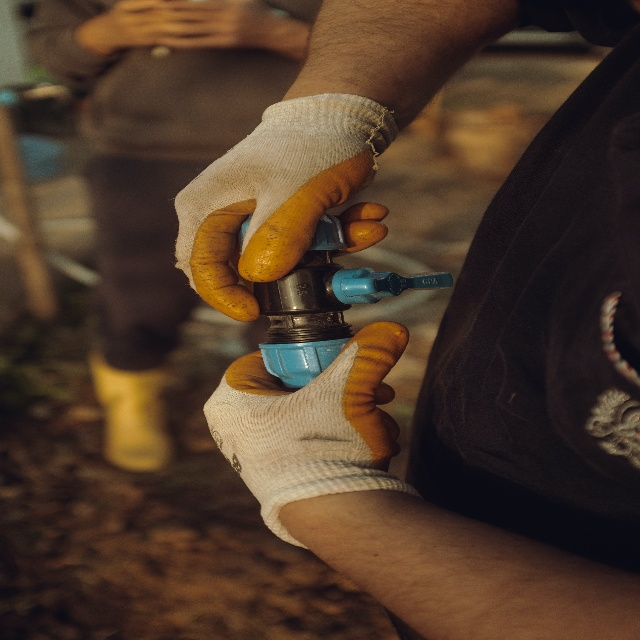Guantes: (175, 92, 399, 323), (203, 319, 424, 550)
